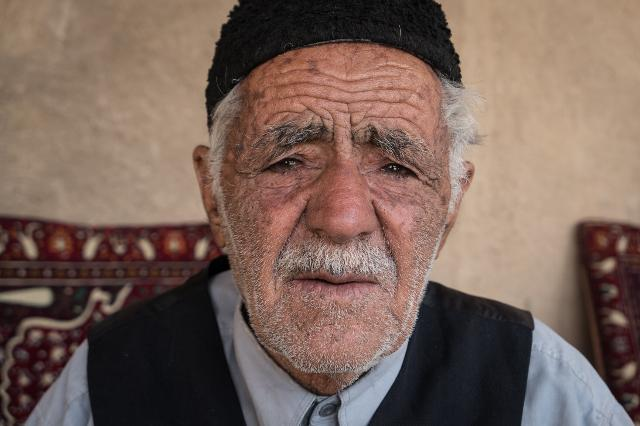crows_feet: (238, 162, 260, 182), (422, 172, 440, 192)
forehead: (374, 70, 410, 98), (278, 104, 330, 122), (377, 106, 411, 130), (276, 68, 314, 88), (280, 88, 318, 106), (327, 72, 368, 86), (336, 94, 364, 114)
frown_line: (347, 121, 359, 147), (326, 119, 340, 141)
gummy_smile: (279, 204, 305, 254), (372, 205, 396, 256)
